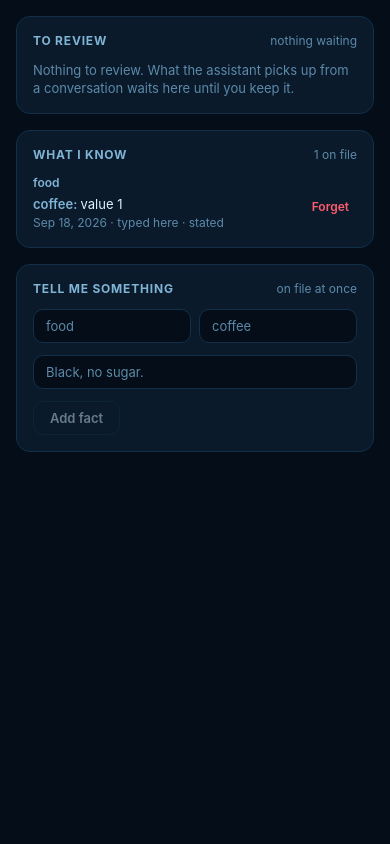
Test: asks before forgetting, and forgets nothing on Cancel
This screenshot has width=390, height=844.
Click the button with test id "facts-forget-1" at (330, 206), box [304, 195, 357, 218]
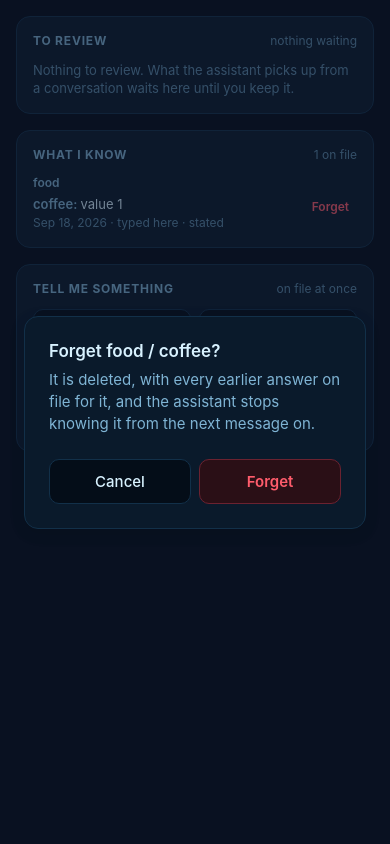
expect the text "Forget food / coffee?" is shown: met, box [49, 340, 220, 360]
Click the text "Cancel" at (120, 481), box [95, 472, 145, 490]
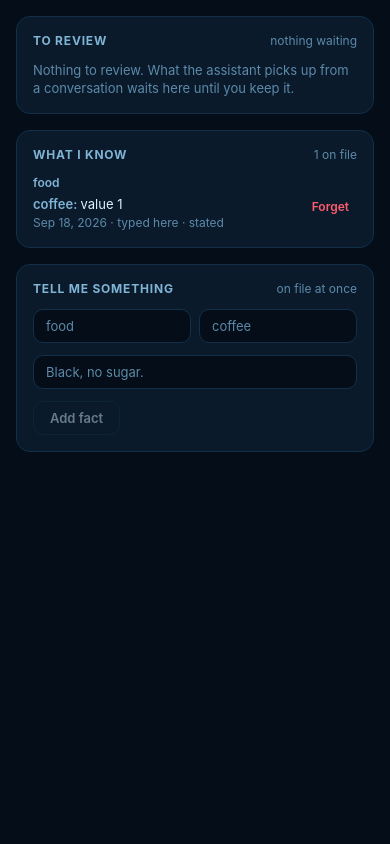
Click the button with test id "facts-forget-1" at (330, 206), box [304, 195, 357, 218]
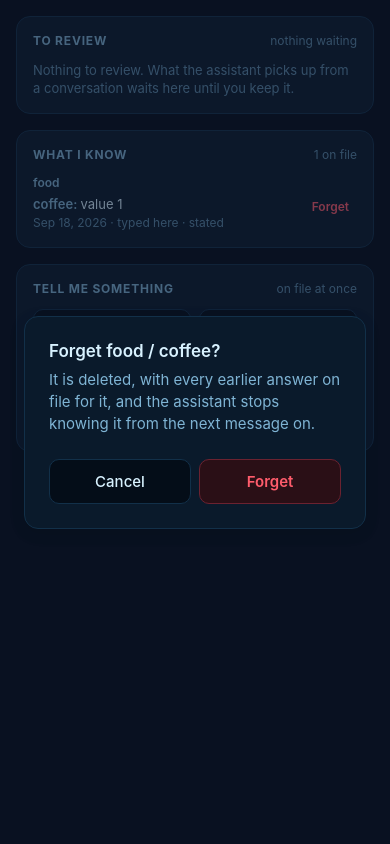
// The dialog's button, drawn after the row's own.
Click the text "Forget" at (270, 481), box [247, 472, 293, 490]
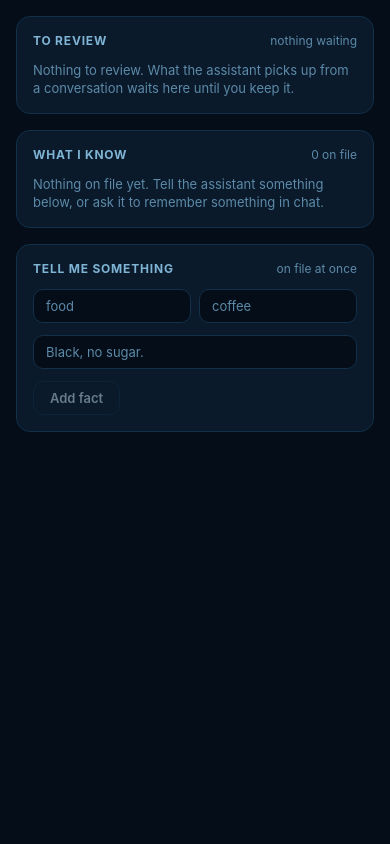
expect the element with test id "facts-known-1" is gone: met
